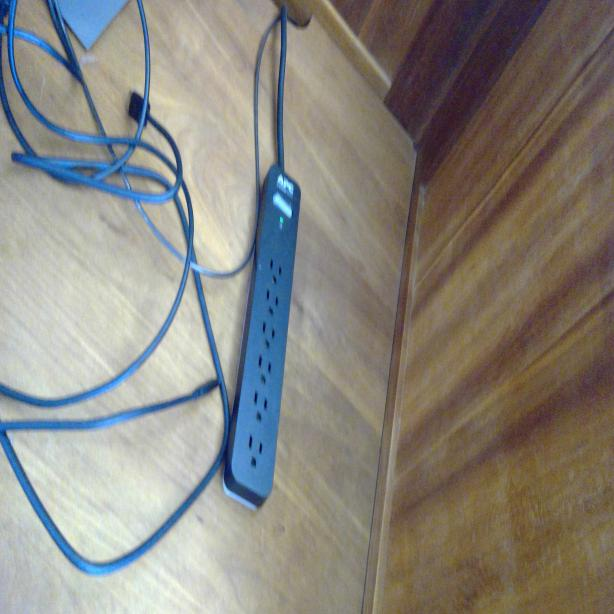typeb: (250, 388, 270, 430), (244, 436, 266, 472), (254, 353, 274, 386), (261, 320, 277, 350), (264, 289, 281, 317), (270, 256, 282, 286)
